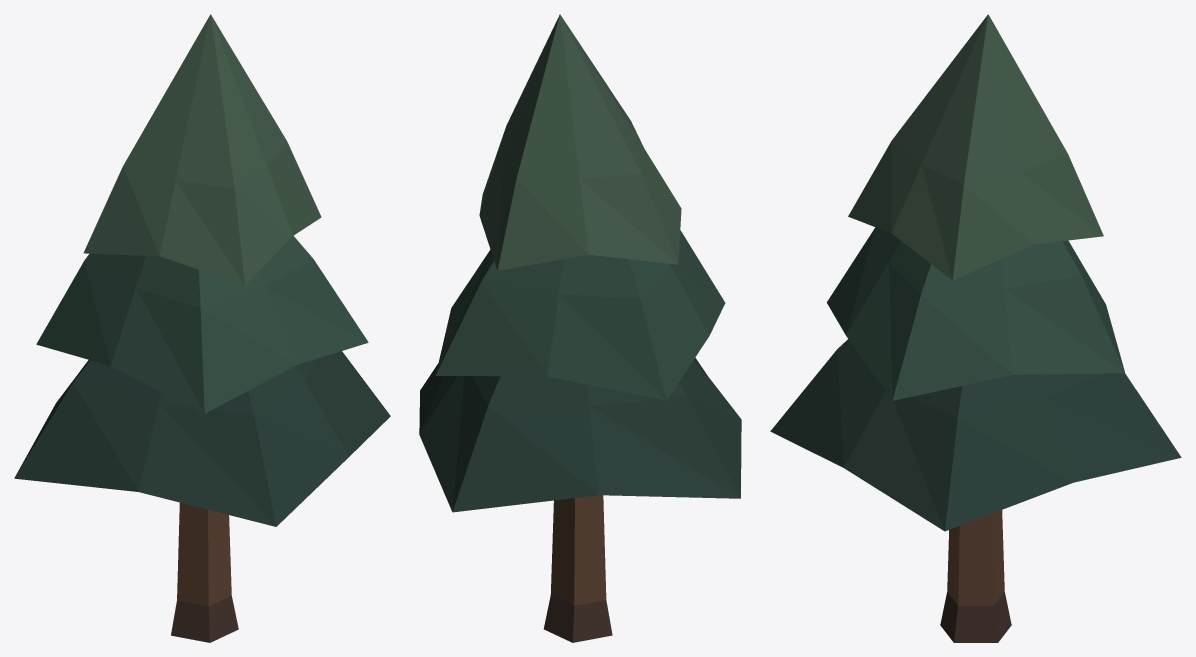
Rendered from Survact-pino-v01.glb.
The picture shows the model from 3 angles, left to right: view 1: azimuth 30°, elevation 25°; view 2: azimuth 150°, elevation 25°; view 3: azimuth 270°, elevation 25°; orthographic projection. The views are drawn at different scales.
Parts seen in each view (by area): view 1: Pine; view 2: Pine; view 3: Pine.
Boxes of the visible parts, x1,y1,x2,y2 form: Pine: (14, 14, 390, 642); Pine: (419, 14, 741, 642); Pine: (770, 14, 1181, 642).
Size of the model in its own units: 0.7337 by 1.23 by 0.7337.
